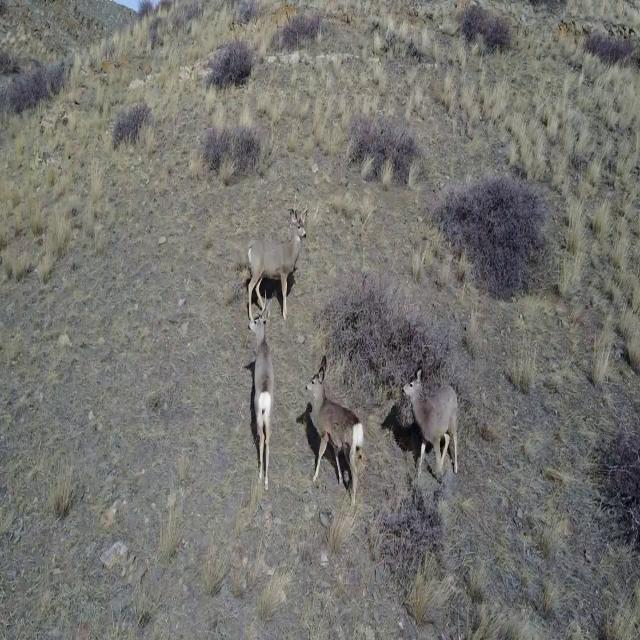Deer: (304, 352, 368, 509), (243, 192, 309, 324), (244, 294, 280, 491), (402, 363, 464, 477)
